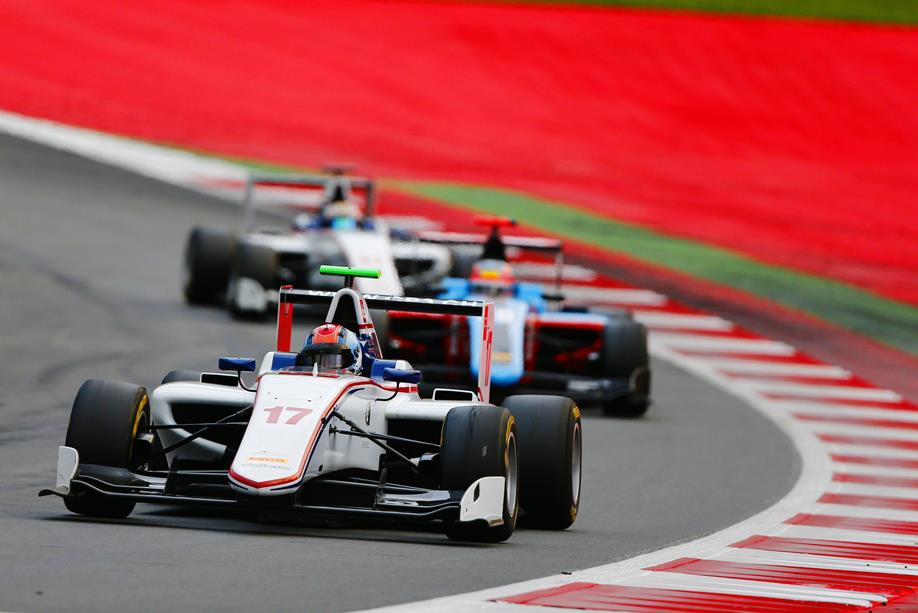race car: (37, 264, 585, 552), (357, 226, 656, 425), (182, 162, 497, 325)
